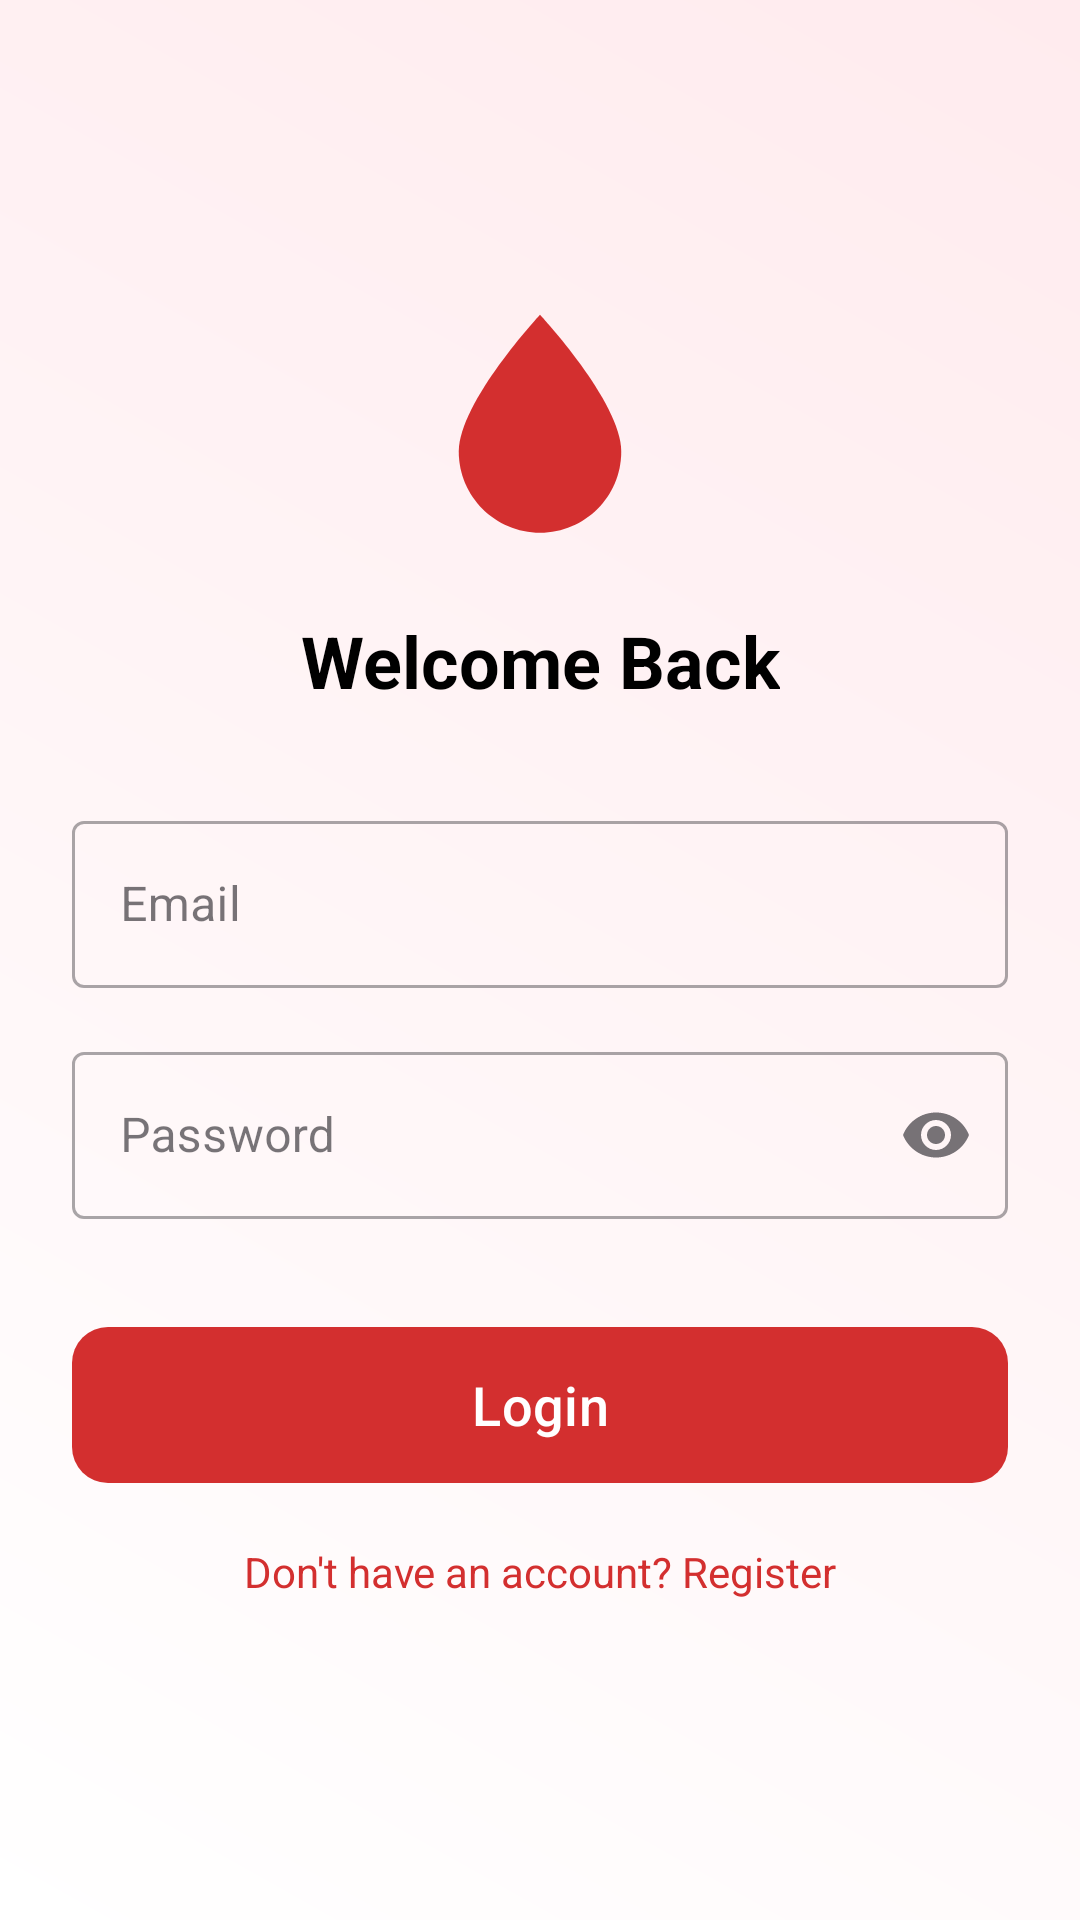

Where to tap for icons on this 1080*1920 app screen, as (x=x, y=y):
blood drop: (x=540, y=424)
